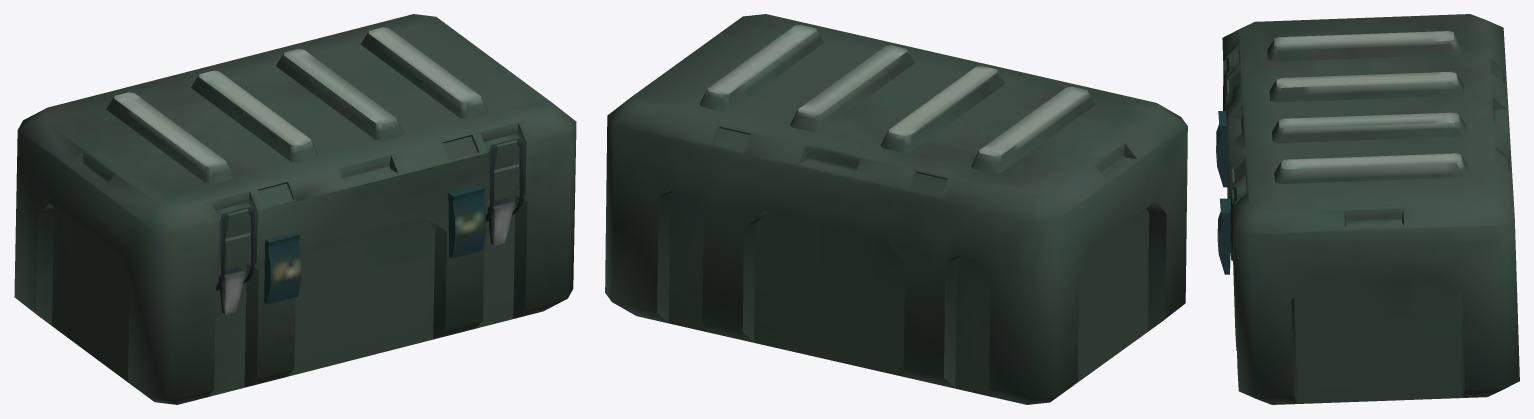
The model's file is Box SUV.fbx.
3 views of the same model, side by side, from view 1: azimuth 30°, elevation 25°; view 2: azimuth 150°, elevation 25°; view 3: azimuth 270°, elevation 25° (orthographic). The views are drawn at different scales.
Visible parts, largest first — view 1: Box SUV; view 2: Box SUV; view 3: Box SUV.
Part boxes in pixels (x1=…): Box SUV: x1=14, y1=14, x2=576, y2=404; Box SUV: x1=605, y1=14, x2=1187, y2=404; Box SUV: x1=1216, y1=14, x2=1519, y2=404.
Size of the model in its own units: 0.6958 by 0.3353 by 0.4343.
